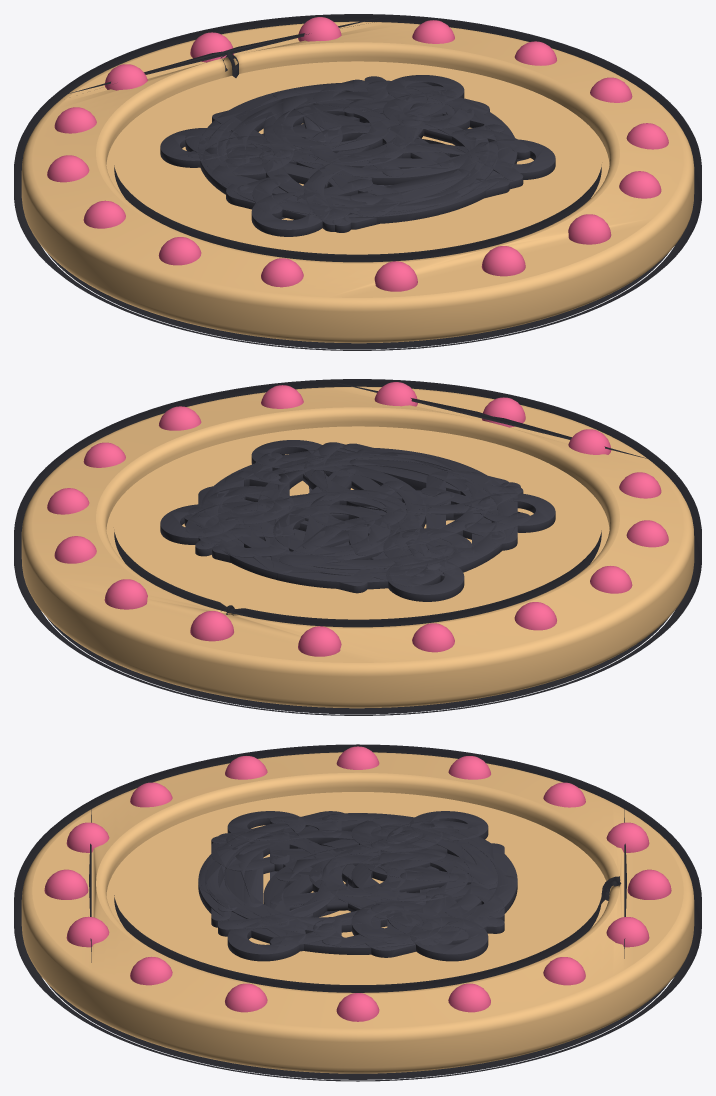
File: medallion.glb
3 renders of one model, top to bottom at view 1: azimuth 30°, elevation 25°; view 2: azimuth 150°, elevation 25°; view 3: azimuth 270°, elevation 25°, orthographic.
Parts seen in each view (by area): view 1: body, outline, stones, mark_plan_uses, mark_buddies, mark_perfect_cycles, mark_night_owl, mark_workouts, mark_records, mark_cycles, mark_streak, mark_volume (+1 smaller); view 2: body, outline, stones, mark_plan_uses, mark_perfect_cycles, mark_buddies, mark_night_owl, mark_records, mark_workouts, mark_cycles, mark_streak, mark_volume (+1 smaller); view 3: body, outline, stones, mark_plan_uses, mark_buddies, mark_perfect_cycles, mark_night_owl, mark_workouts, mark_records, mark_streak, mark_cycles, mark_volume (+1 smaller).
Boxes of the visible parts, box(x1,y1,x2,y2) form: body: box(21, 21, 694, 343); outline: box(14, 14, 701, 350); stones: box(47, 17, 668, 291); mark_plan_uses: box(160, 75, 555, 236); mark_buddies: box(202, 93, 530, 231); mark_perfect_cycles: box(198, 82, 517, 223); mark_night_owl: box(205, 79, 497, 216); mark_workouts: box(212, 80, 503, 220); mark_records: box(185, 79, 509, 229); mark_cycles: box(226, 76, 489, 232); mark_streak: box(262, 91, 491, 211); mark_volume: box(188, 90, 522, 231); body: box(21, 386, 694, 708); outline: box(14, 379, 701, 715); stones: box(47, 382, 668, 656); mark_plan_uses: box(160, 440, 555, 601); mark_perfect_cycles: box(198, 447, 517, 589); mark_buddies: box(202, 442, 530, 569); mark_night_owl: box(184, 452, 517, 576); mark_records: box(185, 443, 509, 593); mark_workouts: box(198, 471, 517, 557); mark_cycles: box(195, 457, 520, 569); mark_streak: box(257, 451, 491, 580); mark_volume: box(188, 443, 522, 581); body: box(21, 752, 694, 1073); outline: box(14, 744, 701, 1081); stones: box(44, 746, 671, 1021); mark_plan_uses: box(227, 811, 488, 961); mark_buddies: box(218, 816, 468, 951); mark_perfect_cycles: box(198, 813, 517, 954); mark_night_owl: box(205, 813, 497, 944); mark_workouts: box(212, 811, 503, 957); mark_records: box(211, 820, 504, 944); mark_streak: box(205, 830, 517, 932); mark_cycles: box(211, 825, 504, 933); mark_volume: box(218, 816, 439, 945).
Size of the model in its own units: 1.06 by 0.1195 by 1.06.
